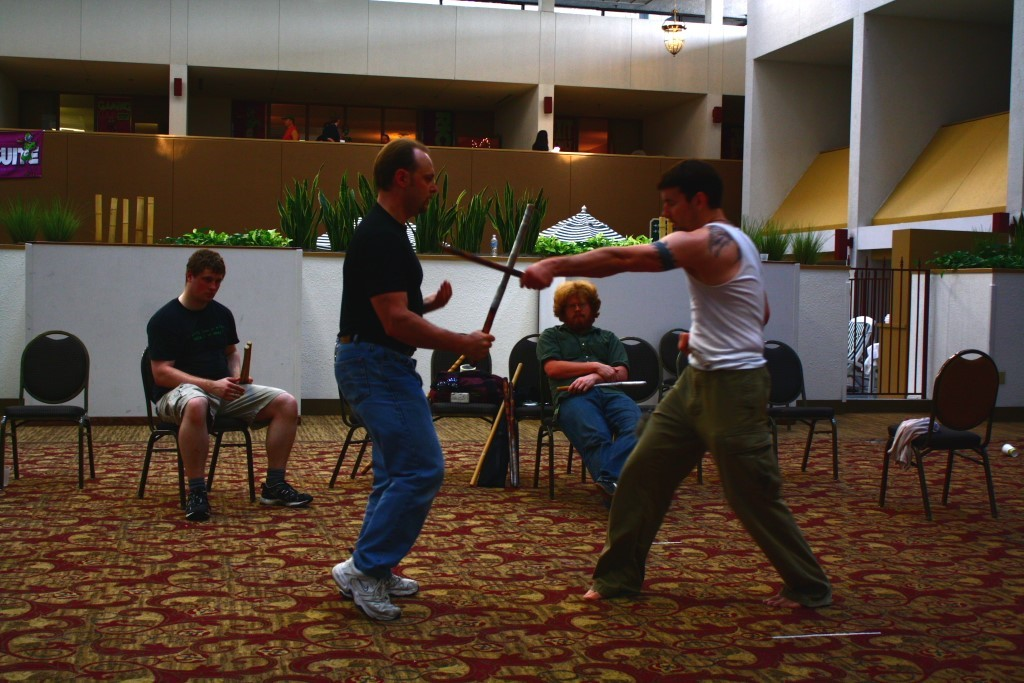baston_e: (478, 209, 532, 331), (468, 369, 519, 481), (446, 240, 521, 281), (559, 379, 644, 392), (237, 352, 250, 383)
baston_v: (523, 198, 535, 214), (455, 350, 468, 363), (437, 236, 447, 251), (514, 358, 525, 368), (464, 480, 476, 489), (243, 341, 250, 353), (244, 339, 255, 346), (640, 378, 649, 386), (555, 384, 561, 393)
